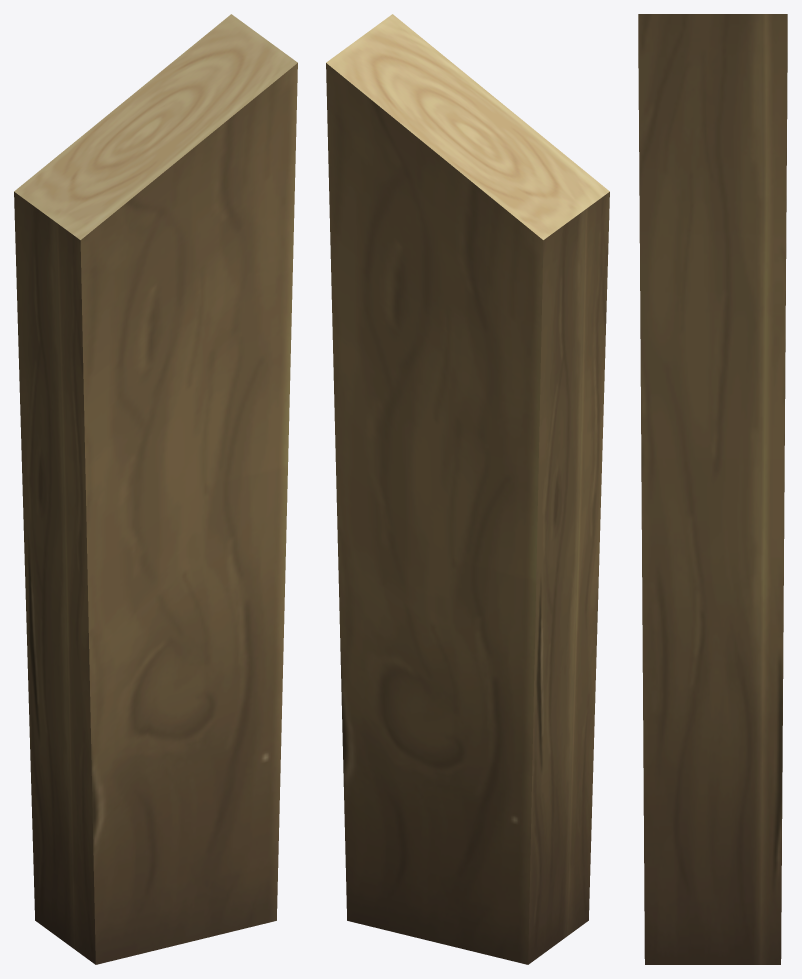
3 views of the same model, side by side, from view 1: azimuth 30°, elevation 25°; view 2: azimuth 150°, elevation 25°; view 3: azimuth 270°, elevation 25° (orthographic). The views are drawn at different scales.
Visible parts, largest first — view 1: part_01b:Mesh; view 2: part_01b:Mesh; view 3: part_01b:Mesh.
Boxes of the visible parts, x1,y1,x2,y2 form: part_01b:Mesh: (14, 14, 297, 964); part_01b:Mesh: (326, 14, 609, 964); part_01b:Mesh: (638, 14, 787, 964).
Bounding box in the file's own units: 0.8341 × 3.14 × 0.4425.
